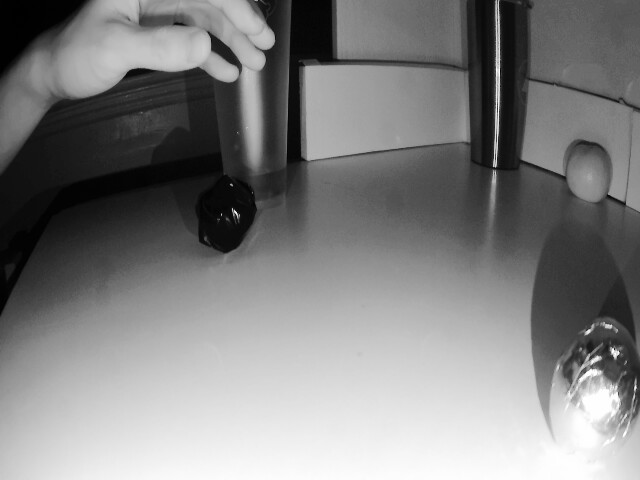black: (542, 317, 640, 461)
silver: (196, 178, 257, 256)
